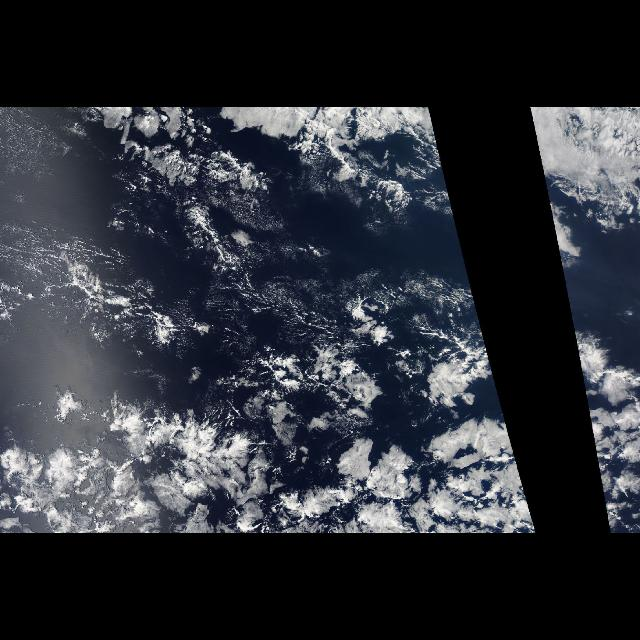Fish: (52, 387, 272, 493)
Sugar: (0, 108, 96, 286)
